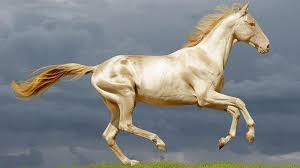horse: (11, 3, 271, 165)
